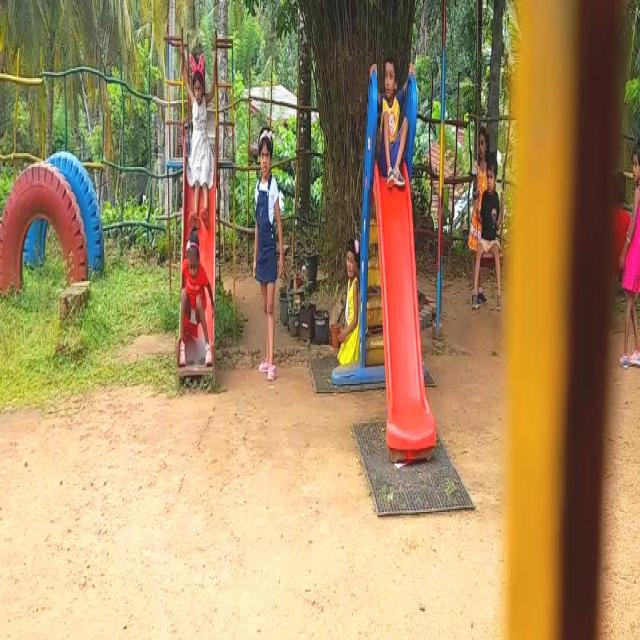child: (249, 128, 285, 389), (179, 48, 216, 212), (472, 126, 501, 303), (377, 43, 406, 188), (183, 217, 211, 357), (339, 241, 360, 368)
